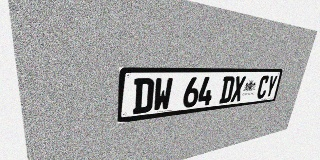4: (197, 77, 215, 106)
6: (182, 77, 201, 108)
C: (256, 75, 270, 99)
D: (132, 78, 155, 114), (219, 76, 235, 104)
W: (152, 78, 173, 112)
X: (230, 76, 246, 102)
Y: (264, 75, 278, 98)
